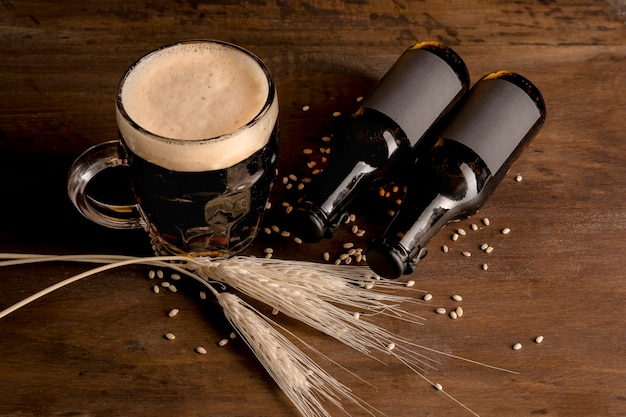alcohol: (65, 40, 282, 265), (368, 68, 549, 279), (289, 42, 470, 245)
